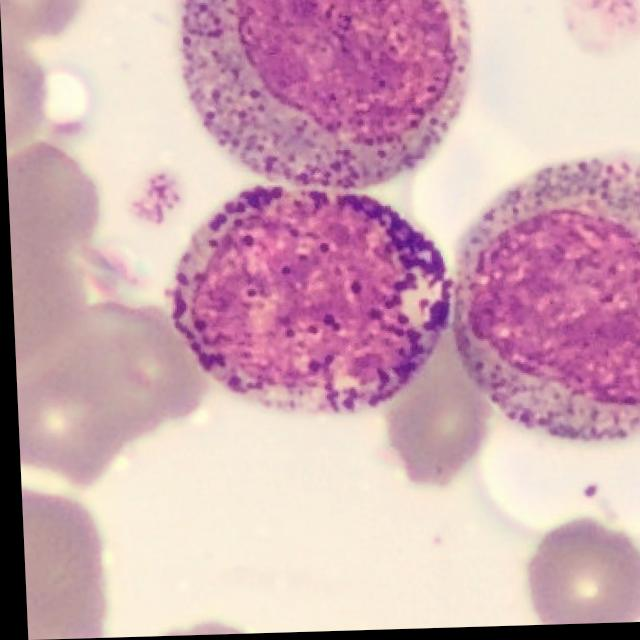Mielocito: (180, 0, 472, 197), (447, 158, 640, 448)
